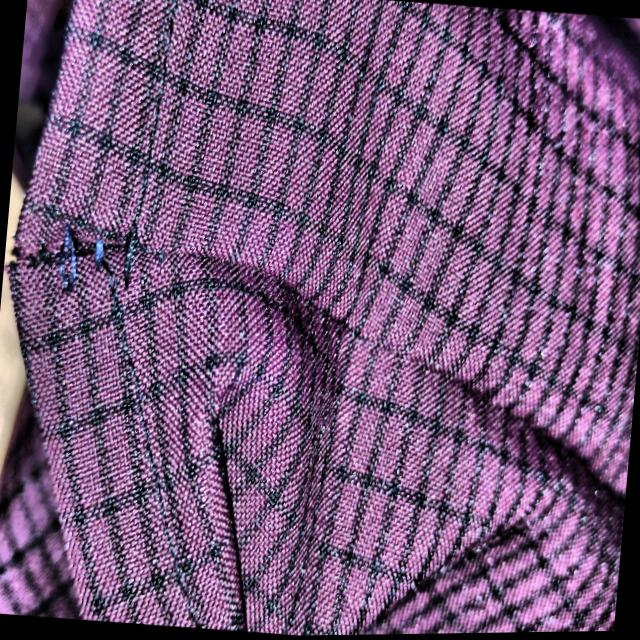Stitch: (42, 184, 166, 325)
